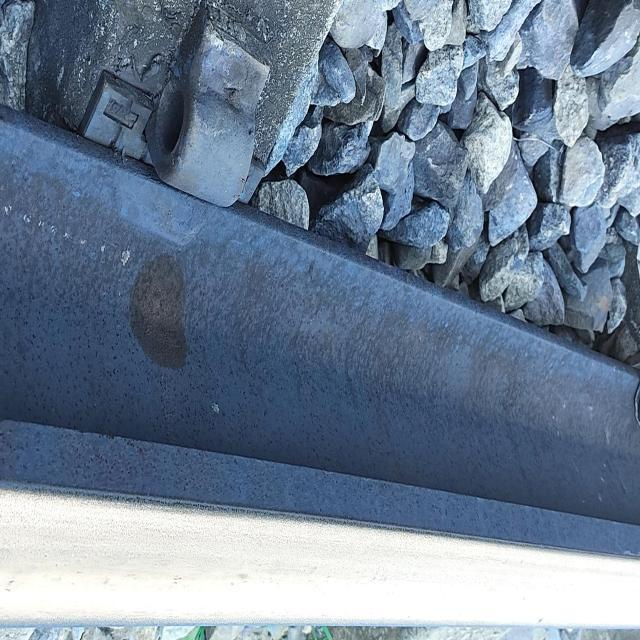Missing Fastener: (135, 0, 289, 237)
